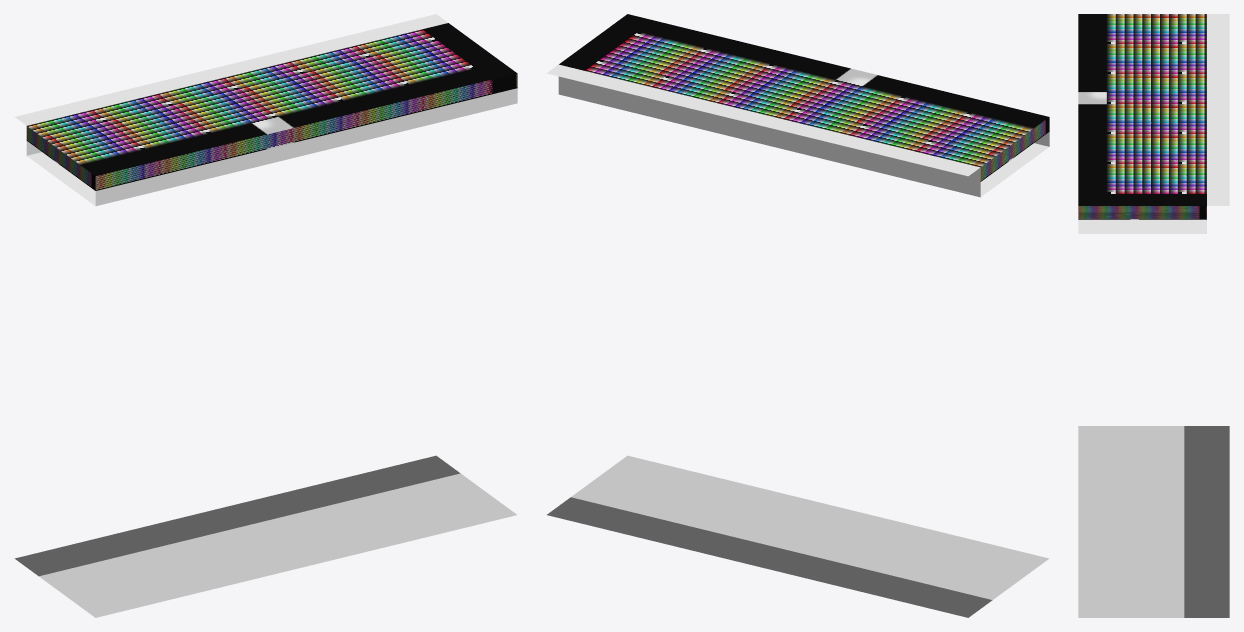
File: ground_line_1_3.fbx
3 views of the same model, side by side, from view 1: azimuth 30°, elevation 25°; view 2: azimuth 150°, elevation 25°; view 3: azimuth 270°, elevation 25° (orthographic). The views are drawn at different scales.
Parts seen in each view (by area): view 1: shadowsOnly, ground_line_1_3, ceiling_line_1_3; view 2: ground_line_1_3, shadowsOnly, ceiling_line_1_3; view 3: ground_line_1_3, shadowsOnly, ceiling_line_1_3.
Boxes of the visible parts, x1,y1,x2,y2 form: shadowsOnly: (26, 23, 517, 190); ground_line_1_3: (14, 455, 516, 617); ceiling_line_1_3: (15, 14, 517, 206); ground_line_1_3: (547, 455, 1049, 617); shadowsOnly: (558, 14, 1049, 181); ceiling_line_1_3: (546, 64, 1049, 197); ground_line_1_3: (1078, 426, 1229, 617); shadowsOnly: (1078, 14, 1206, 219); ceiling_line_1_3: (1078, 14, 1229, 233).
Size of what is drawn, in the model's own units: 300 by 300 by 100.
